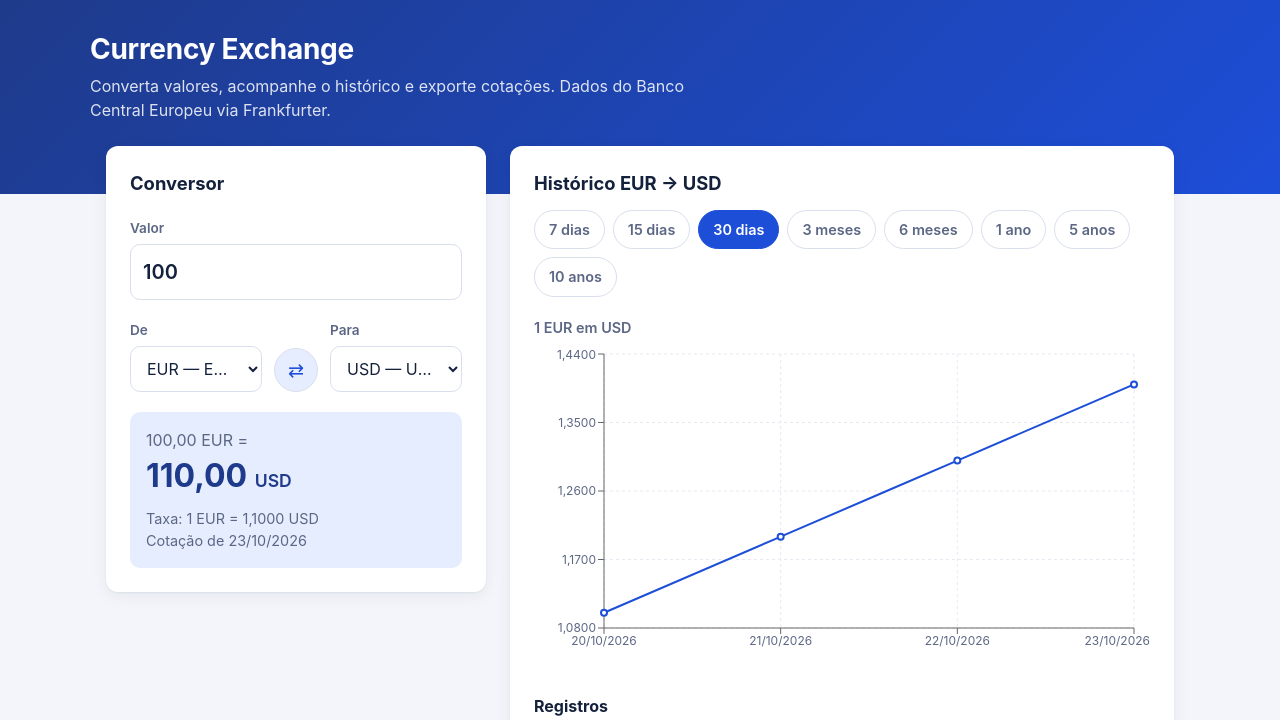
Test: App (integração com fetch simulado) › valida entrada inválida e não calcula
Expected: the text "110,00" is shown, x1=146 y1=456 x2=247 y2=495
Replace the text in the field labelled "Valor" with "abc" at [296, 272], box x1=130 y1=244 x2=462 y2=300
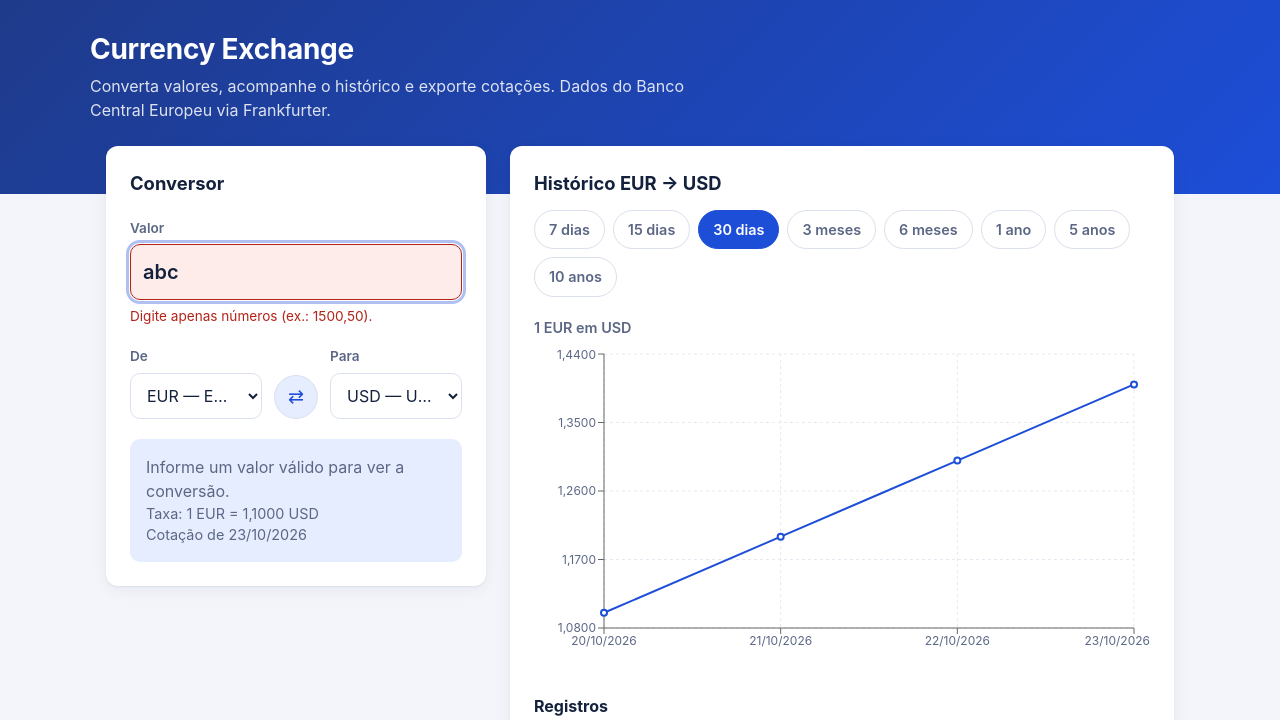
Result: the message shows "apenas números" at x1=130 y1=308 x2=372 y2=324
Replace the text in the field labelled "Valor" with "0" at [296, 272], box x1=130 y1=244 x2=462 y2=300
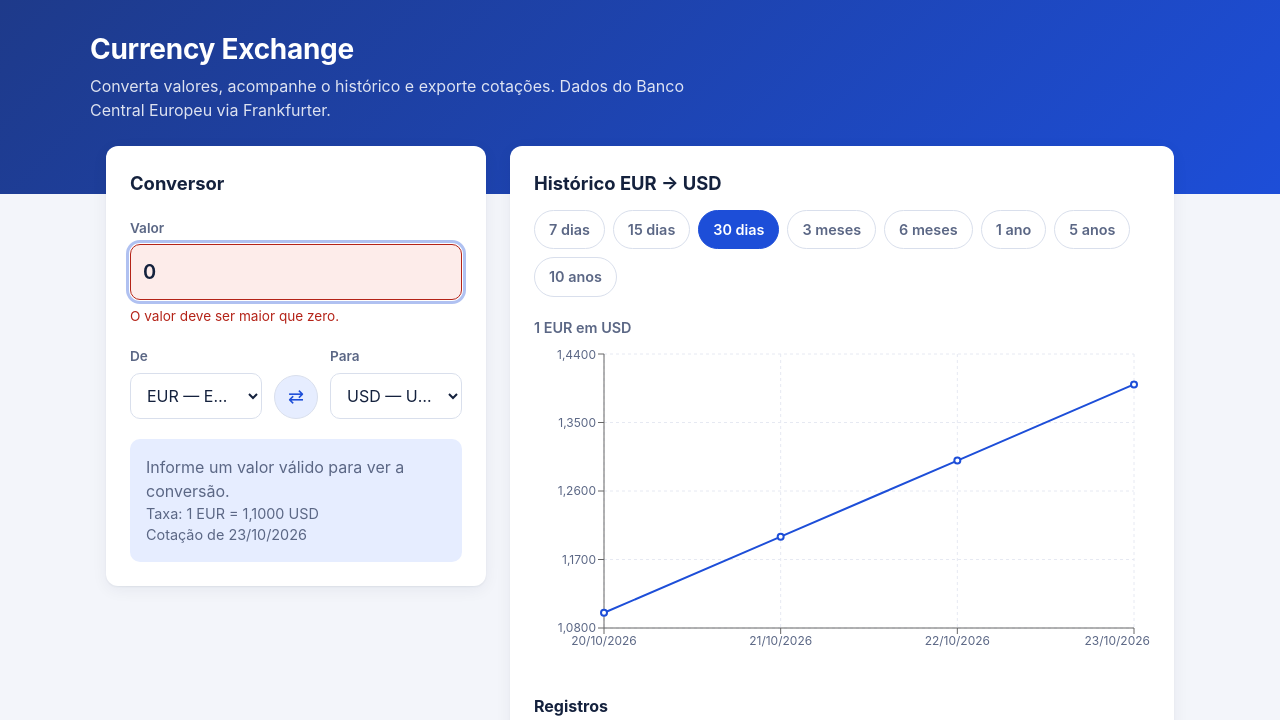
Result: the message shows "maior que zero" at x1=130 y1=308 x2=339 y2=324
